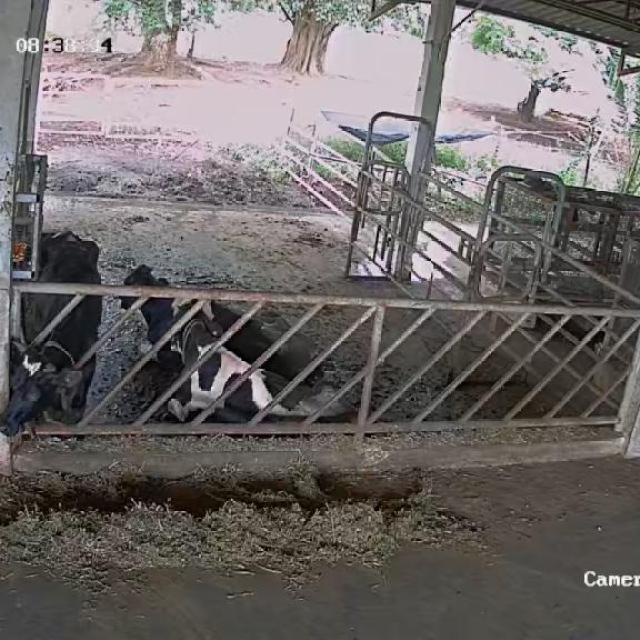feeding: (4, 226, 116, 451)
lying down: (111, 259, 301, 384), (162, 297, 350, 421)
